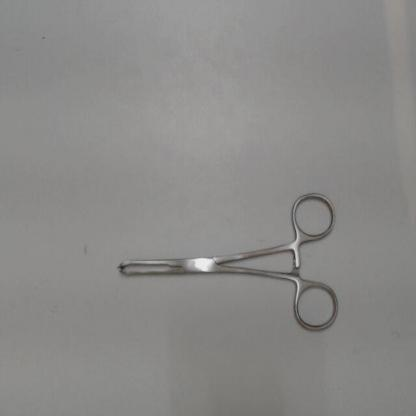Allis Tissue Forceps: (110, 186, 341, 343)
